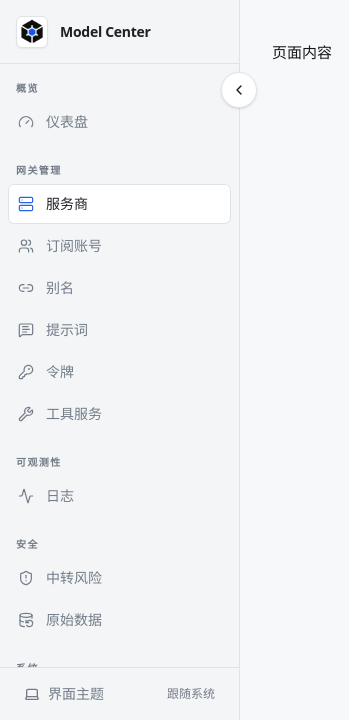
AdminShell › persists the desktop sidebar collapsed state
Click the button named "折叠侧边栏": click(239, 90) left=221, top=72, right=257, bottom=108
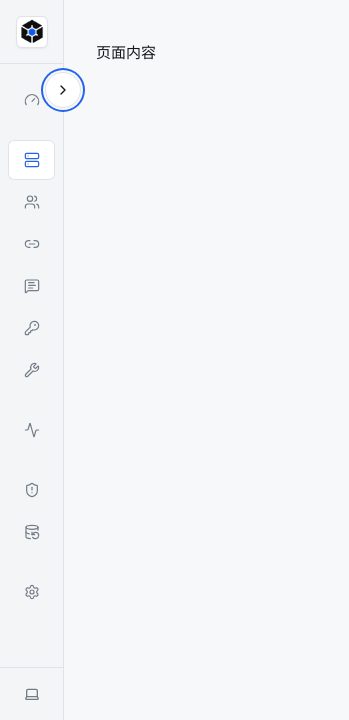
Check: the button named "展开侧边栏" is shown, box left=45, top=72, right=81, bottom=108
